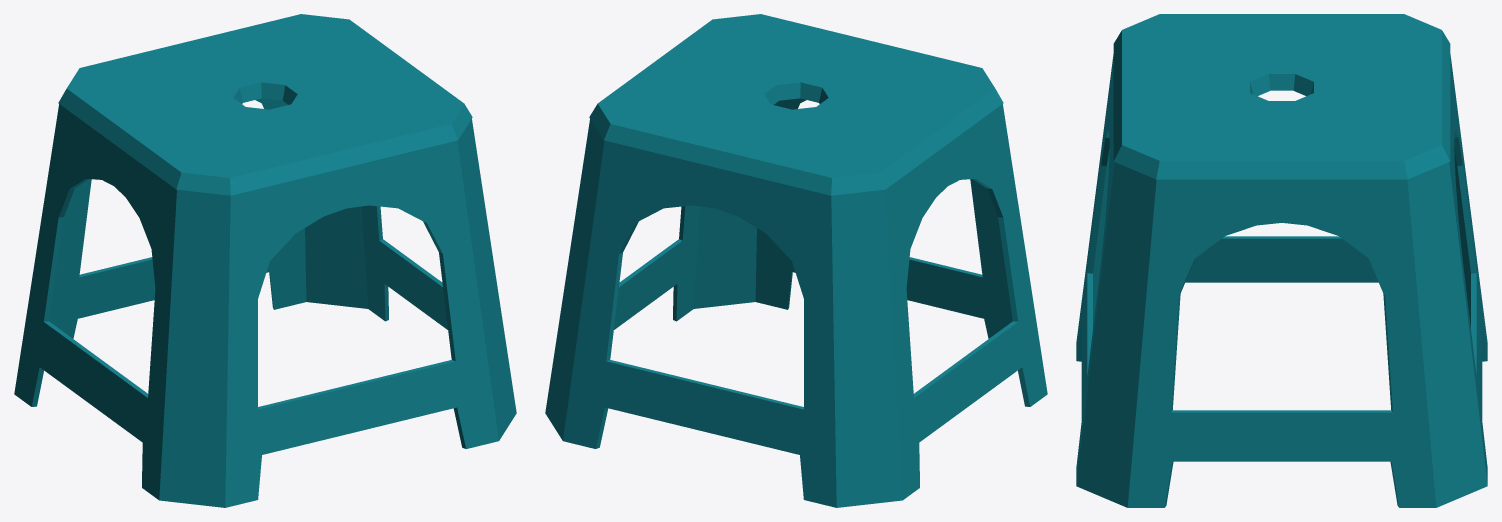
File: SM_Furniture_StoolLow_Cyan_01.glb
The picture shows the model from 3 angles, left to right: view 1: azimuth 30°, elevation 25°; view 2: azimuth 150°, elevation 25°; view 3: azimuth 270°, elevation 25°; orthographic projection. The views are drawn at different scales.
Parts seen in each view (by area): view 1: SM_Furniture_StoolLow_Cyan_01; view 2: SM_Furniture_StoolLow_Cyan_01; view 3: SM_Furniture_StoolLow_Cyan_01.
Boxes of the visible parts, box(x1,y1,x2,y2) form: SM_Furniture_StoolLow_Cyan_01: box(14, 14, 516, 507); SM_Furniture_StoolLow_Cyan_01: box(545, 14, 1047, 507); SM_Furniture_StoolLow_Cyan_01: box(1076, 14, 1487, 507).
Bounding box in the file's own units: 0.316 × 0.26 × 0.296.
Materials: 1 (1 with a texture image).
